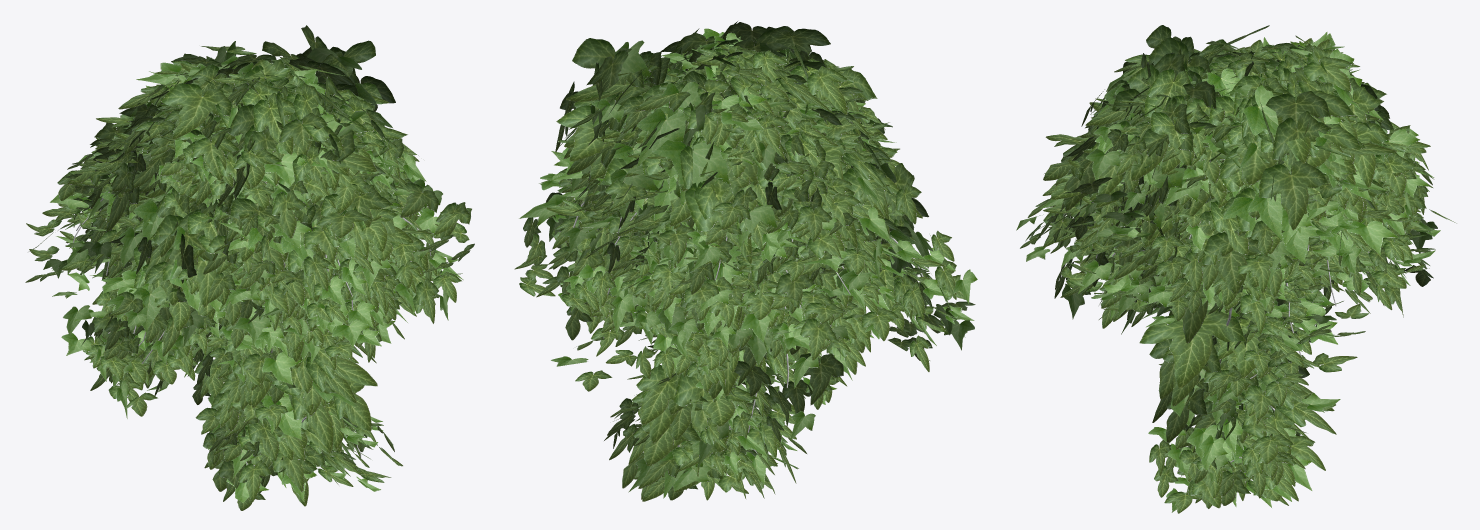
Rendered from IVYStyAndTelegraphPole01c.fbx.
3 renders of one model, left to right at view 1: azimuth 30°, elevation 25°; view 2: azimuth 150°, elevation 25°; view 3: azimuth 270°, elevation 25°, orthographic. The views are drawn at different scales.
Parts seen in each view (by area): view 1: default; view 2: default; view 3: default.
Boxes of the visible parts, x1=… form: default: x1=25, y1=25, x2=474, y2=510; default: x1=514, y1=21, x2=977, y2=501; default: x1=1016, y1=25, x2=1456, y2=513.
Bounding box in the file's own units: 187 × 211 × 196.
